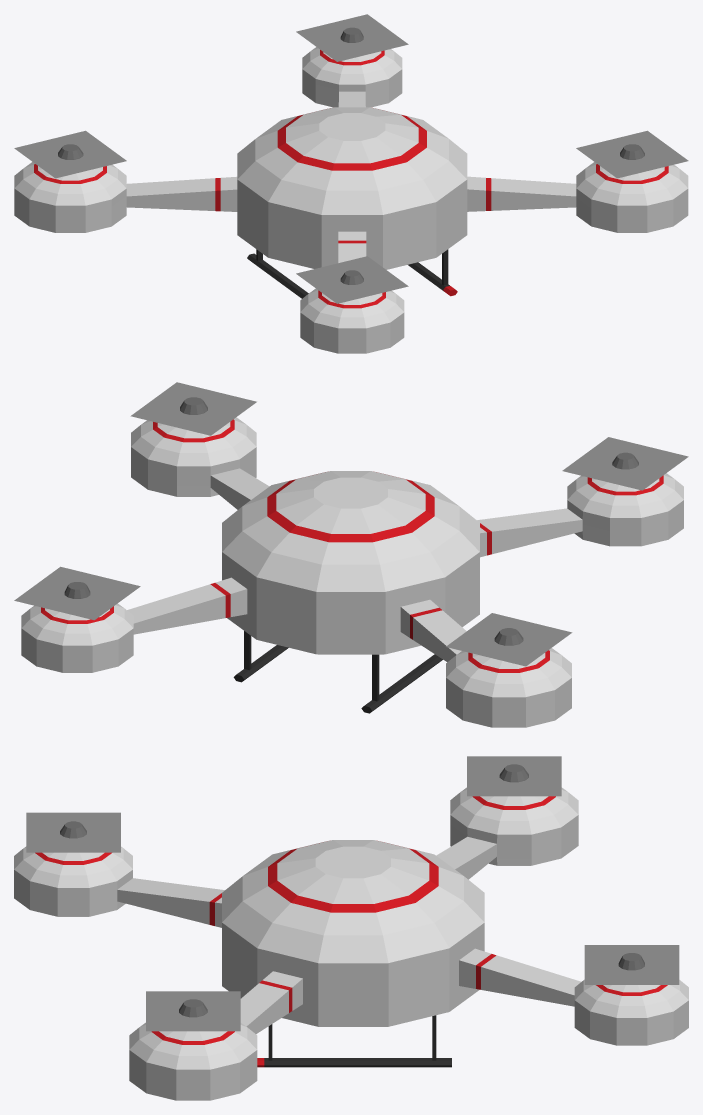
File: Drone (low poly).fbx
3 views of the same model, one above another, from view 1: azimuth 30°, elevation 25°; view 2: azimuth 150°, elevation 25°; view 3: azimuth 270°, elevation 25° (orthographic). The views are drawn at different scales.
Visible parts, largest first — view 1: Drone; view 2: Drone; view 3: Drone.
Boxes of the visible parts, x1=… form: Drone: x1=14, y1=14, x2=688, y2=353; Drone: x1=14, y1=382, x2=688, y2=727; Drone: x1=14, y1=756, x2=688, y2=1100.
Size of the model in its own units: 425 by 118 by 419.
